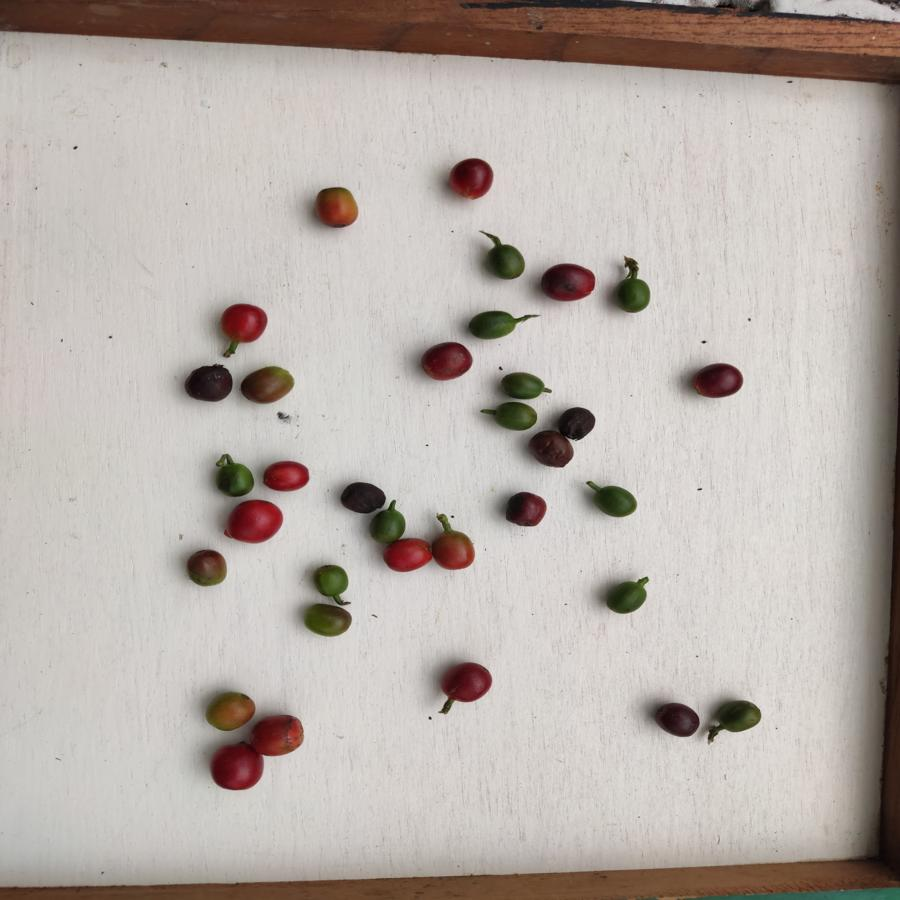Inmaduro: (484, 239, 528, 283), (716, 696, 765, 734), (613, 273, 653, 318), (468, 306, 518, 341), (593, 482, 638, 518), (500, 369, 548, 402), (606, 578, 650, 614), (308, 563, 352, 599), (214, 458, 255, 496), (494, 400, 539, 431), (367, 508, 409, 540)
Maduro: (207, 744, 261, 793), (225, 500, 284, 542), (253, 710, 303, 759), (217, 301, 271, 342), (382, 540, 433, 574), (261, 458, 310, 493)
Pinton: (238, 362, 294, 406), (205, 691, 256, 735), (432, 524, 477, 573), (311, 183, 359, 228), (185, 547, 229, 589), (302, 602, 351, 638)
Sobremaduro: (436, 660, 498, 706), (537, 263, 599, 303), (446, 156, 499, 202), (418, 340, 475, 382), (690, 360, 744, 401), (183, 362, 233, 403), (655, 700, 704, 739), (503, 490, 550, 530), (531, 429, 576, 469), (336, 479, 388, 512), (557, 406, 599, 441)
